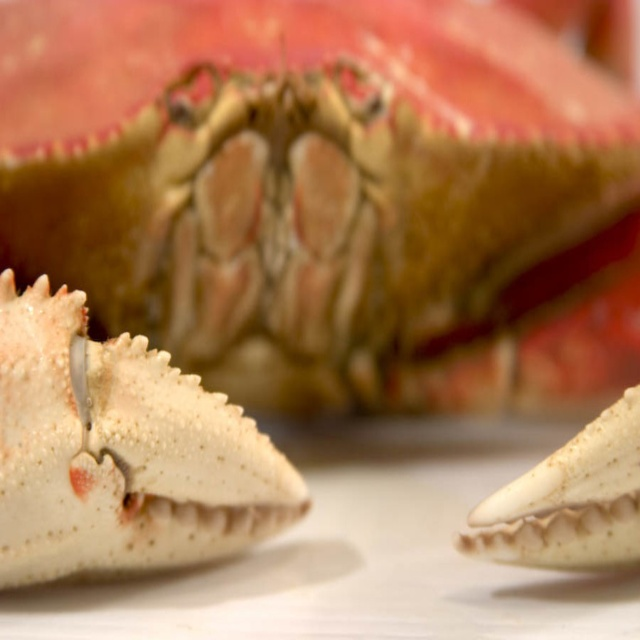Crab: (0, 0, 639, 591)
